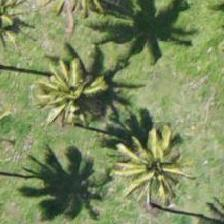coconut_tree: (27, 52, 117, 142), (106, 151, 196, 223)
